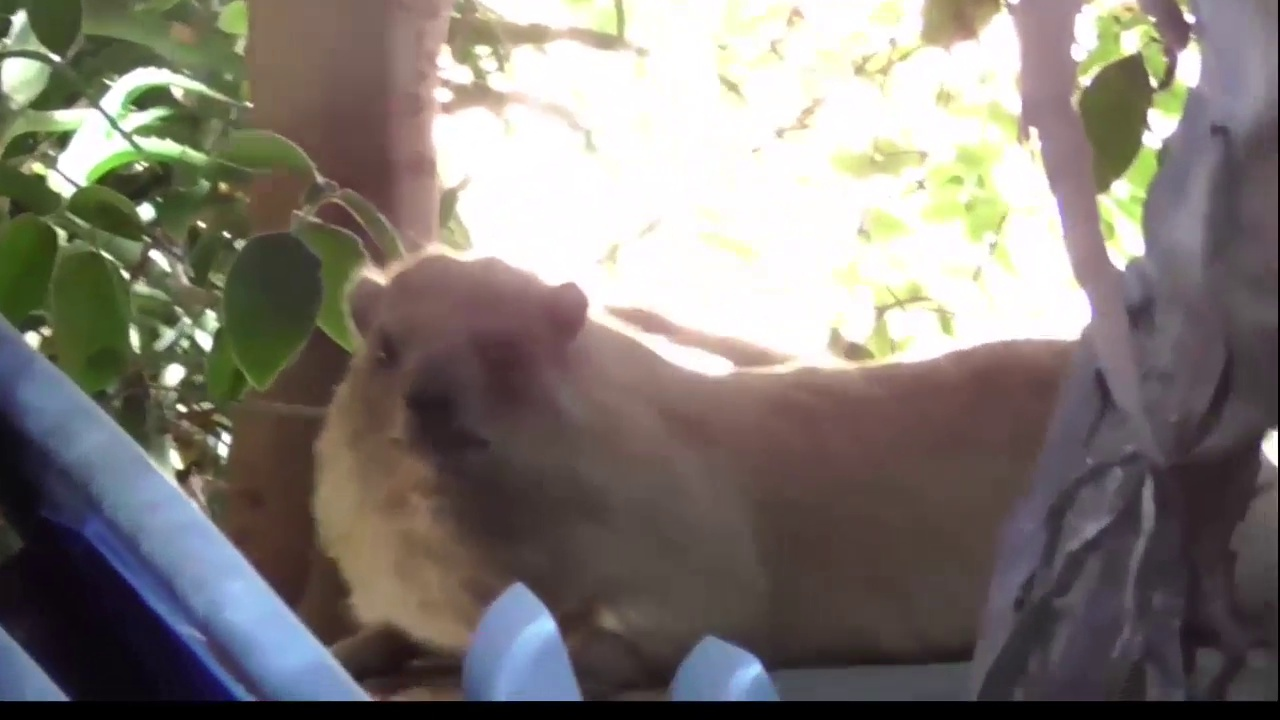Rock Hyrex: (324, 252, 1280, 658)
